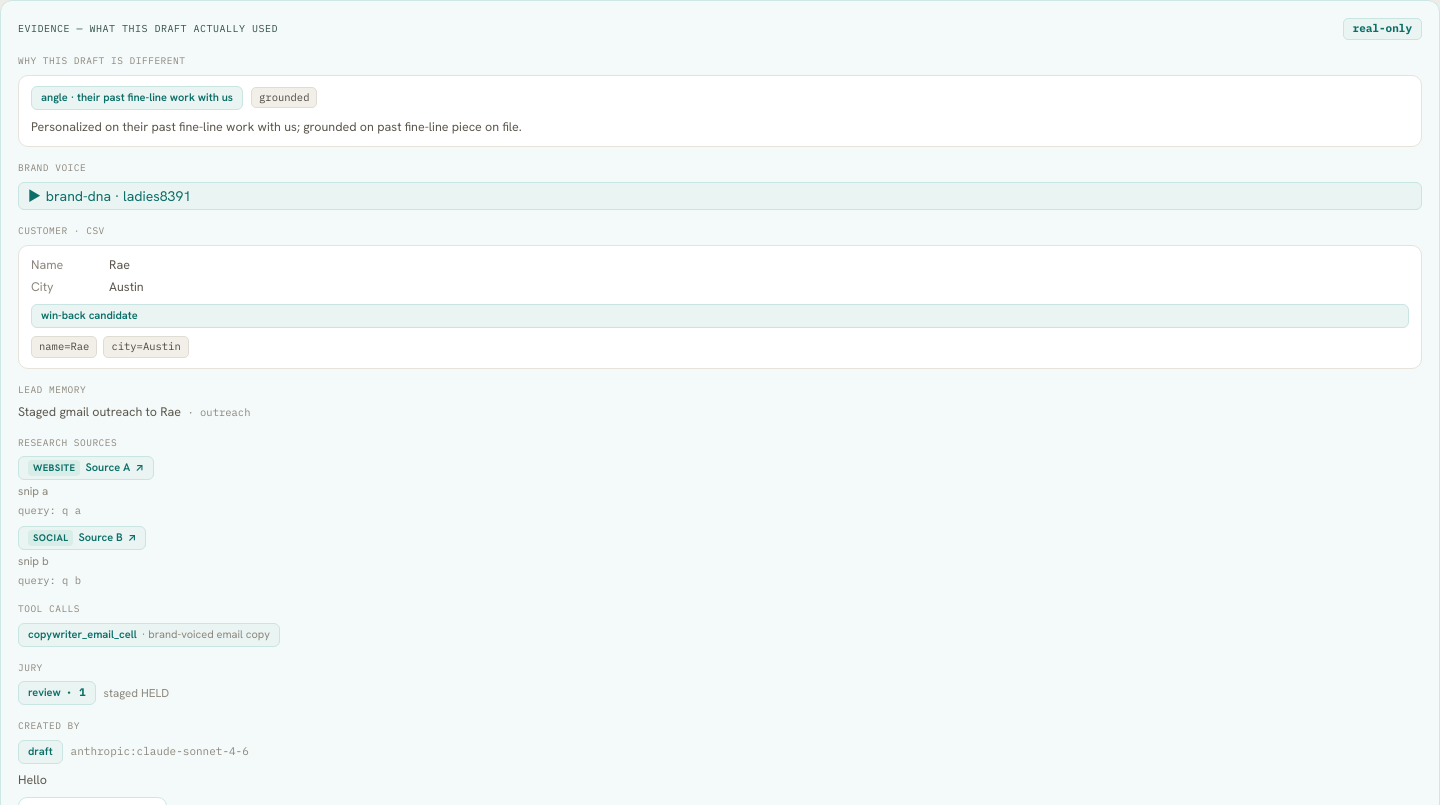
EvidenceProvenance › renders the brand-voice affordance when used, and expands its detail on click
Check: the text "EVIDENCE — what this draft actually used" is shown, box [18,22,278,36]
Check: the text "skills/brand-voice/tenants/ladies8391/brand-dna.md" is not shown
Click the button "▶ brand-dna · ladies8391" at (84, 196), box [18,182,1422,210]
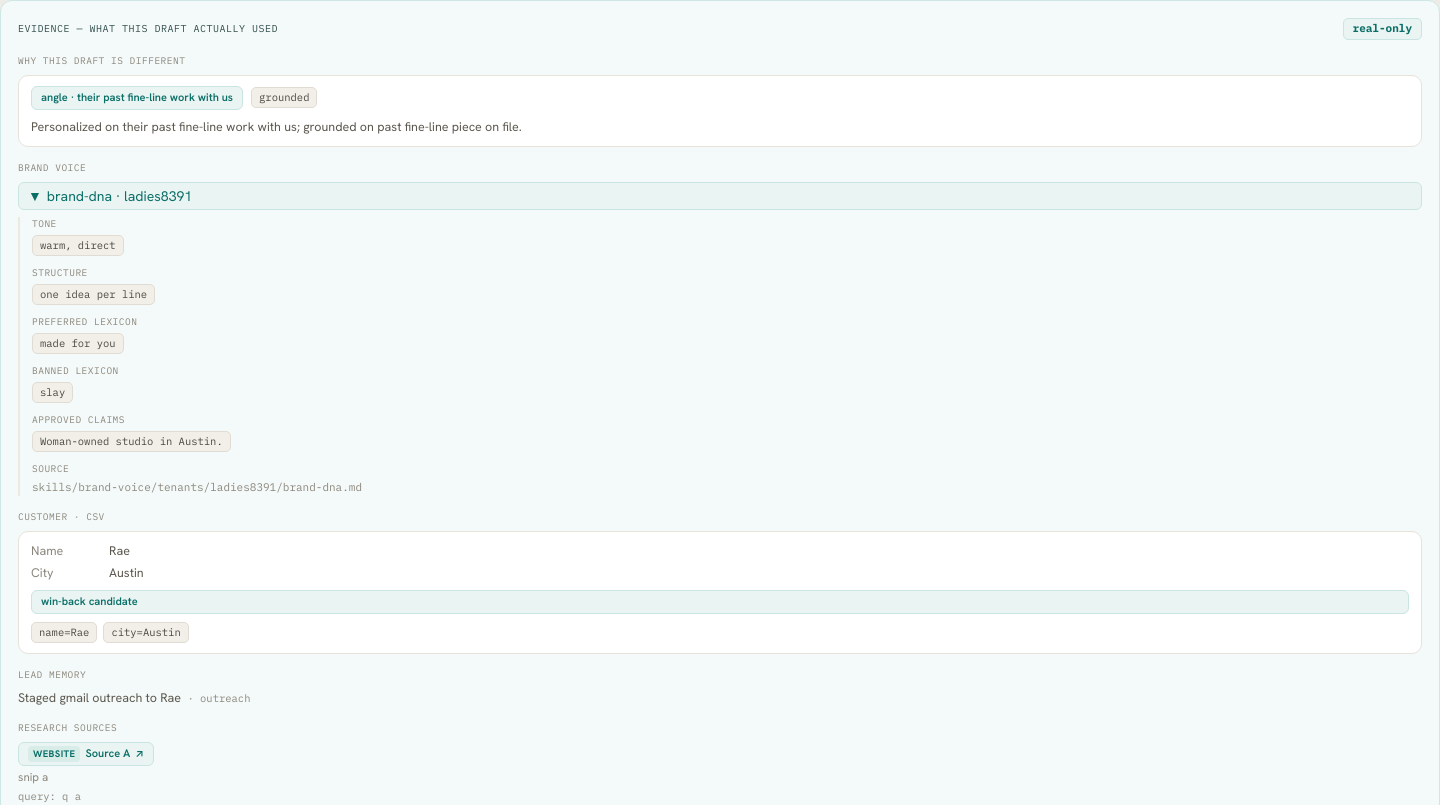
Check: the text "warm, direct" is shown, box [32,235,124,256]
Check: the text "skills/brand-voice/tenants/ladies8391/brand-dna.md" is shown, box [32,480,362,494]
